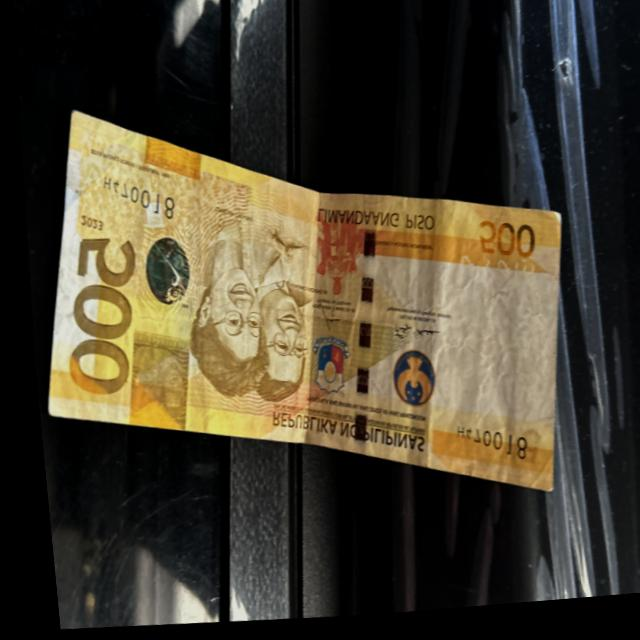concealed_value: (117, 337, 181, 430)
optically_variable_device: (138, 236, 192, 313)
value_watermark: (504, 311, 528, 362)
